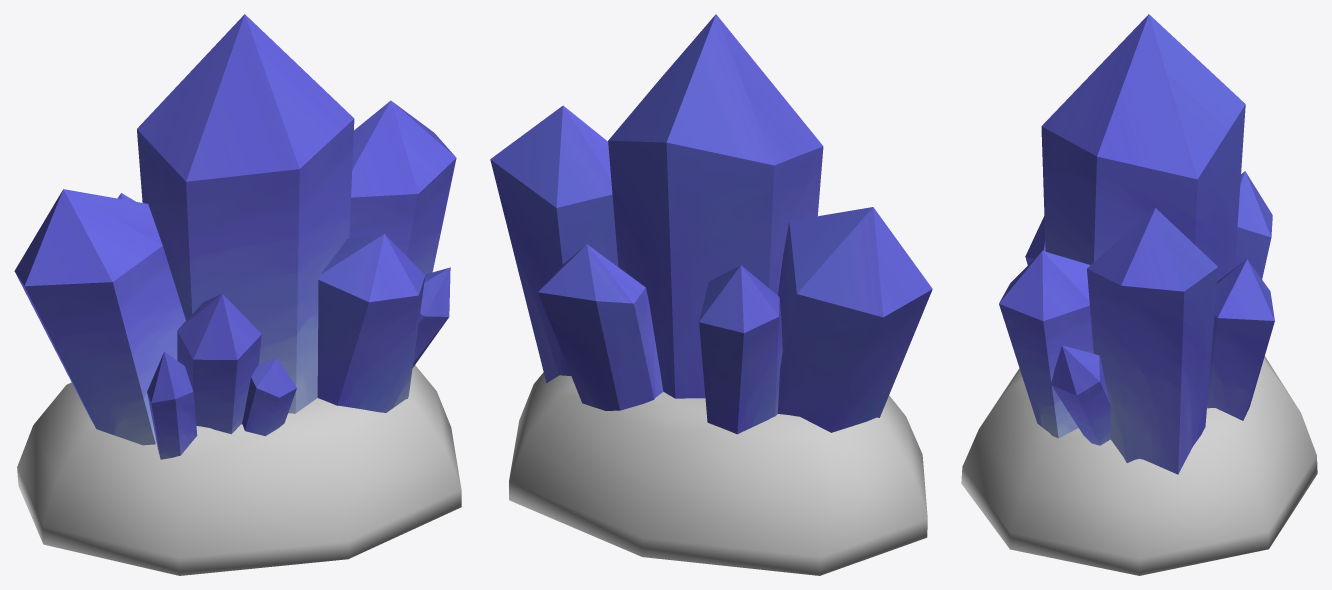
The model's file is Item_crystals.fbx.
3 renders of one model, left to right at view 1: azimuth 30°, elevation 25°; view 2: azimuth 150°, elevation 25°; view 3: azimuth 270°, elevation 25°, orthographic. The views are drawn at different scales.
Visible parts, largest first — view 1: crystals_item, crystal_stone_item; view 2: crystals_item, crystal_stone_item; view 3: crystals_item, crystal_stone_item.
Boxes of the visible parts, x1,y1,x2,y2 form: crystals_item: (14,14,456,459); crystal_stone_item: (17,365,461,575); crystals_item: (490,14,932,434); crystal_stone_item: (509,372,927,575); crystals_item: (999,14,1274,474); crystal_stone_item: (961,356,1317,575).
Size of the model in its own units: 461 by 498 by 341.
